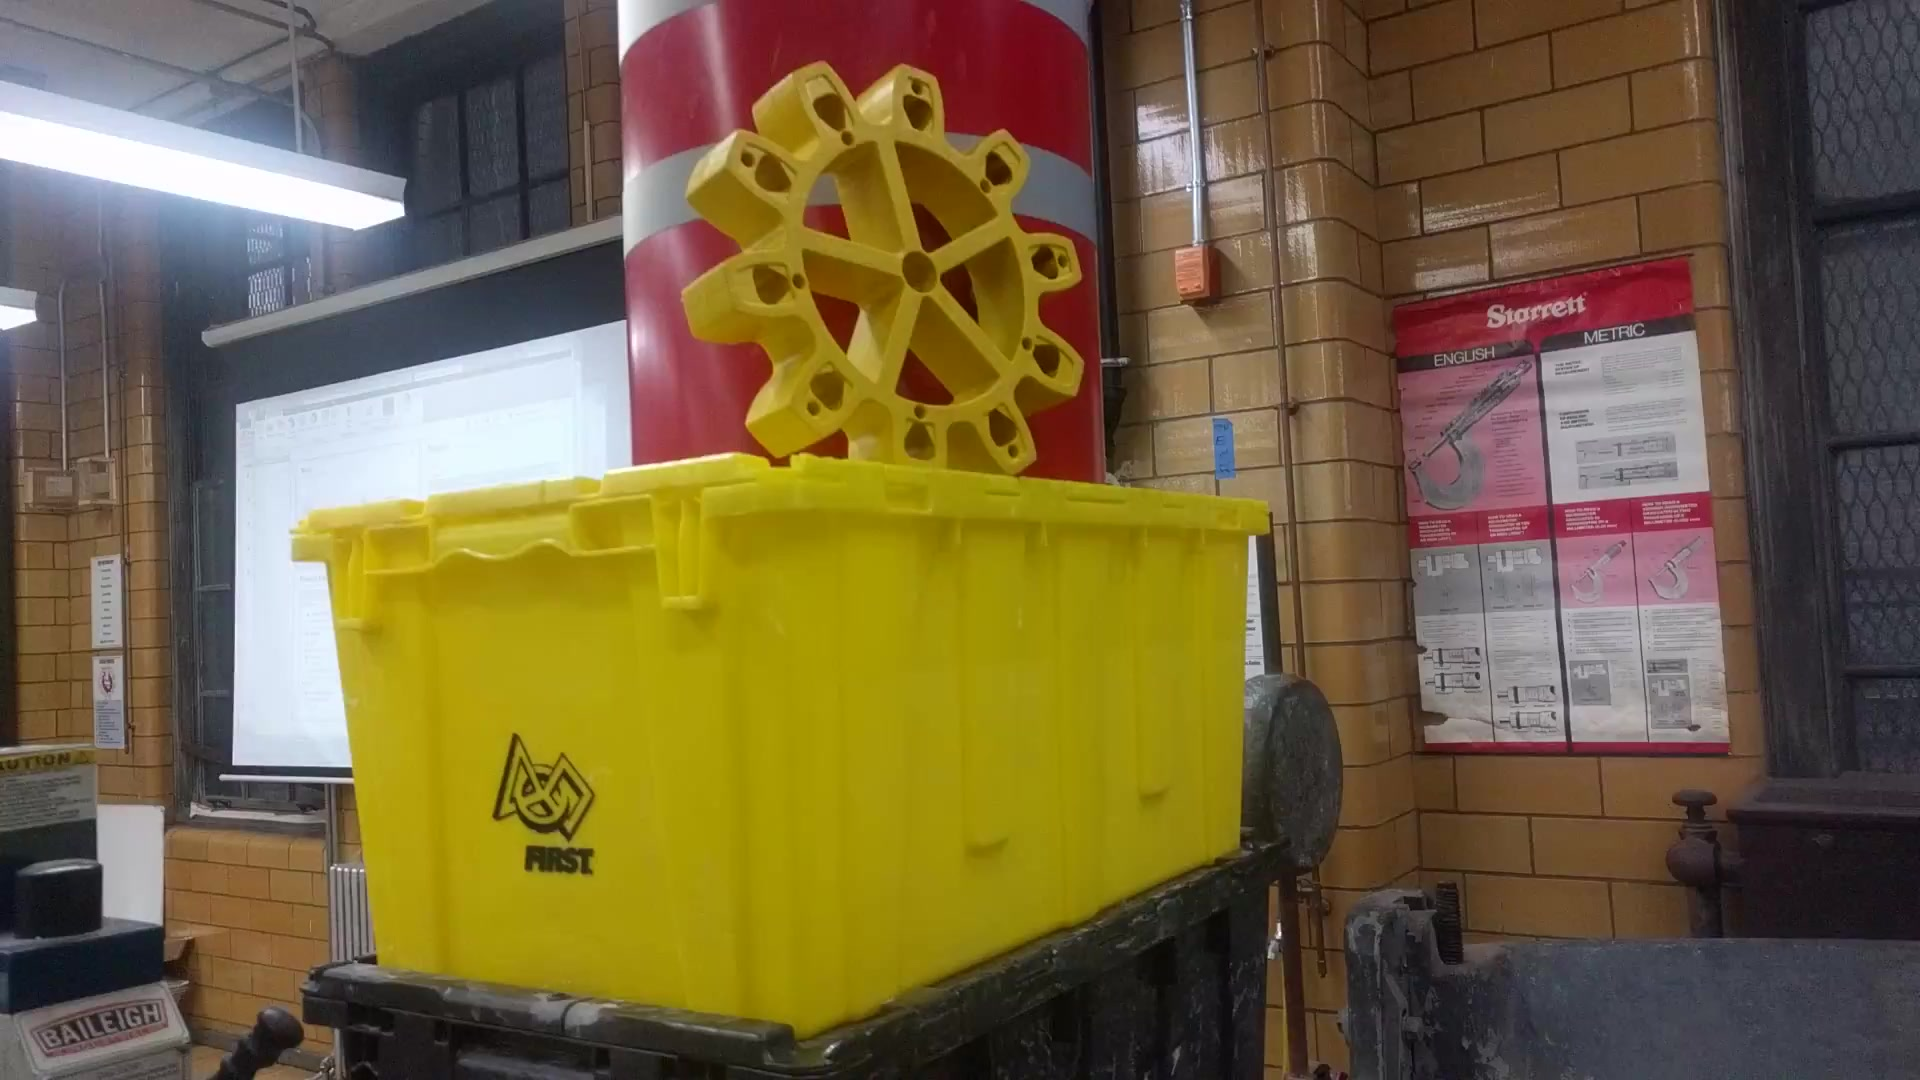gear: (680, 44, 1091, 495)
